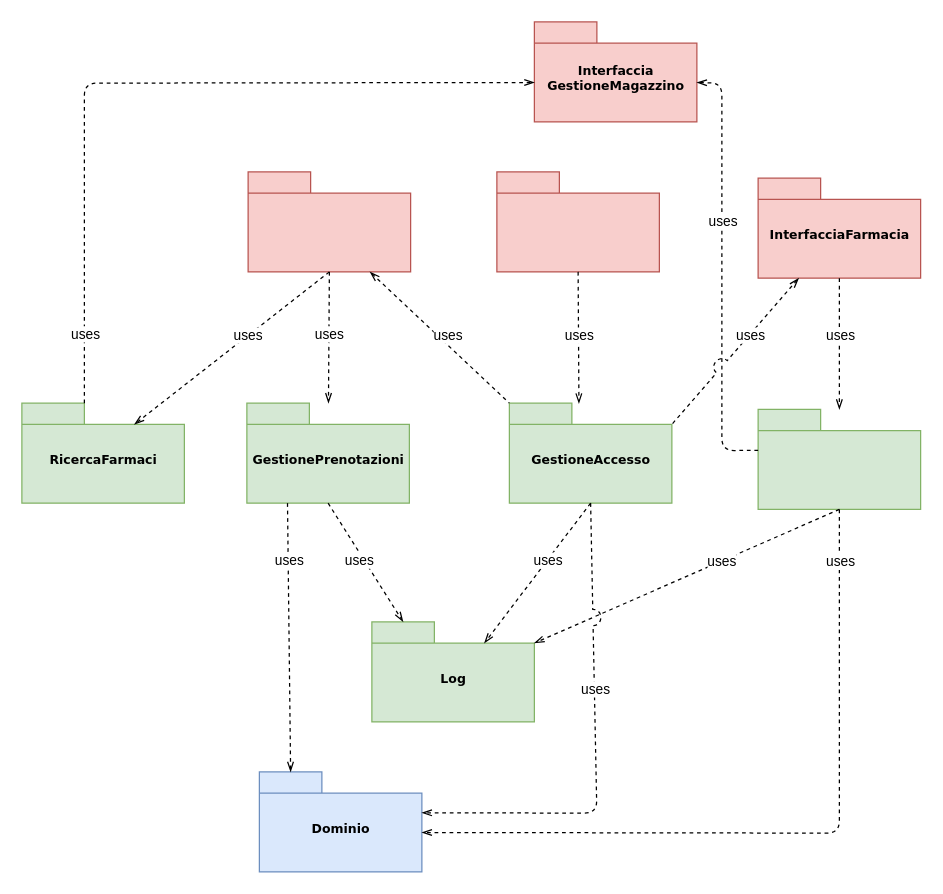
Image size: 943x894. Some labels were removed from this diagram. Here are the shapes that lost their labels. From the top down, the box of each, then its label:
(247, 171, 411, 272): InterfacciaUtente
(496, 171, 659, 272): Interfaccia GestioneAccesso
(757, 408, 921, 509): GestioneFarmacia
